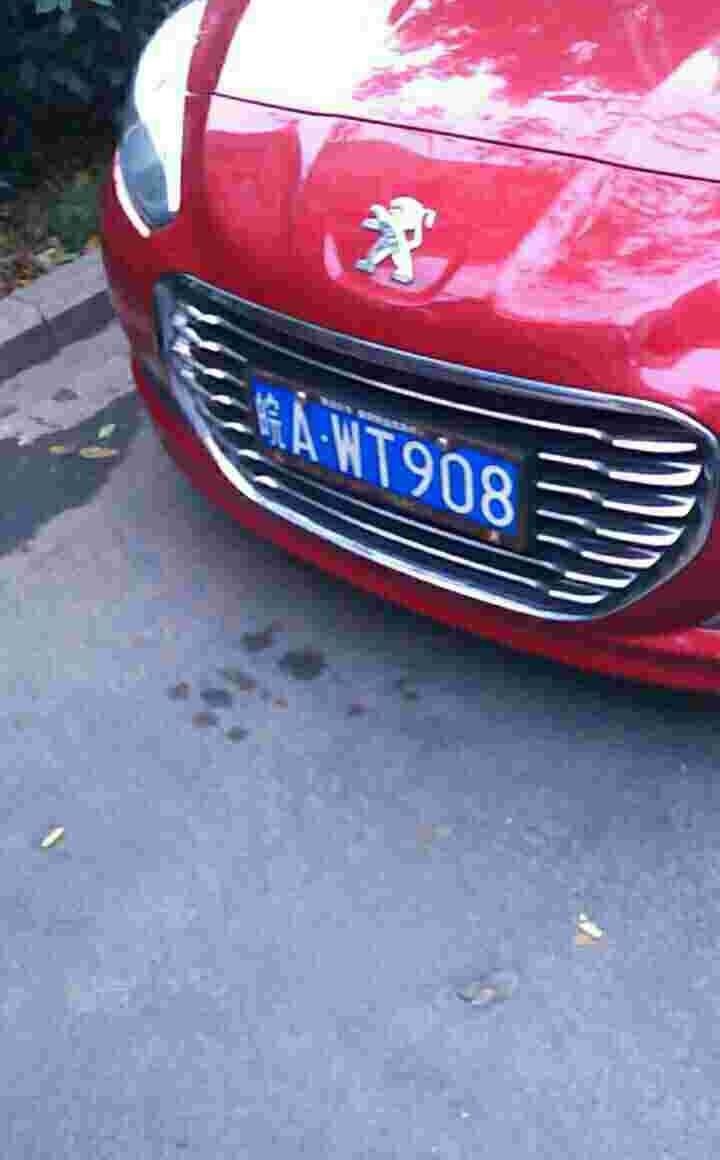license_plate: (251, 370, 535, 543)
